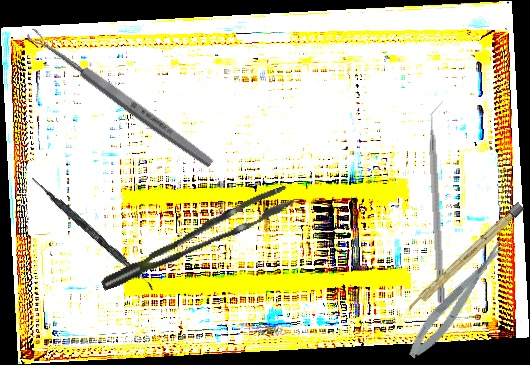Chopper: (426, 99, 456, 305)
Micro Scissor: (401, 236, 515, 364)
Scalpel Handle: (405, 201, 525, 315)
Spatula Surgical: (28, 176, 158, 291)
Surgical Spoon: (25, 26, 216, 170)
Tissue Forceps: (91, 184, 302, 291)
